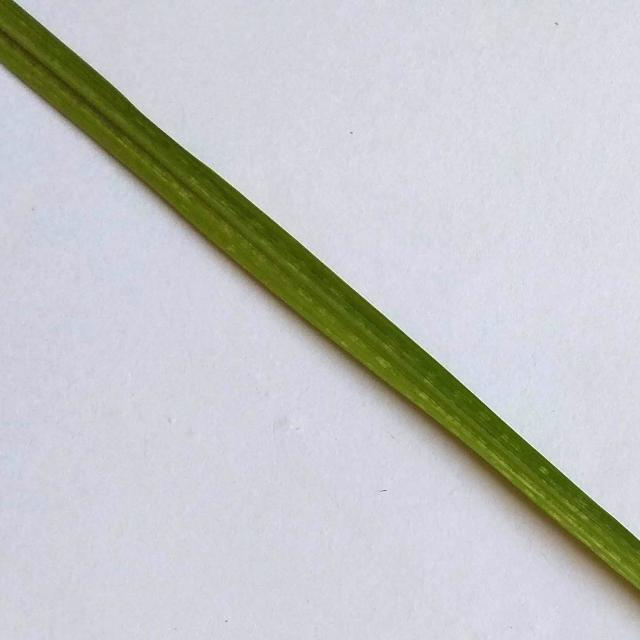Rice_Healthy: (0, 0, 640, 590)
